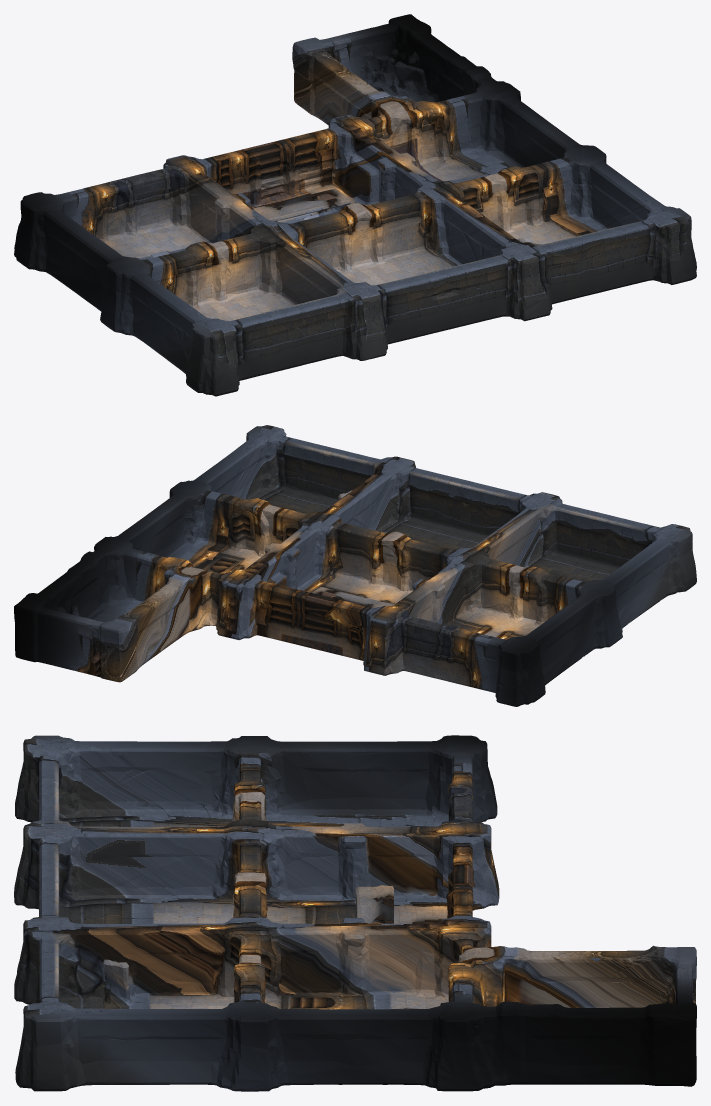
Rendered from wizards-suite-reduced-v2.glb.
The picture shows the model from 3 angles, top to bottom: view 1: azimuth 30°, elevation 25°; view 2: azimuth 150°, elevation 25°; view 3: azimuth 270°, elevation 25°; orthographic projection. The views are drawn at different scales.
Visible parts, largest first — view 1: geometry_0; view 2: geometry_0; view 3: geometry_0.
Boxes of the visible parts, x1,y1,x2,y2 form: geometry_0: (14, 14, 696, 396); geometry_0: (14, 425, 696, 706); geometry_0: (14, 735, 696, 1091).
Size of the model in its own units: 1.99 by 0.2357 by 1.97.
1 material, 1 textured.
